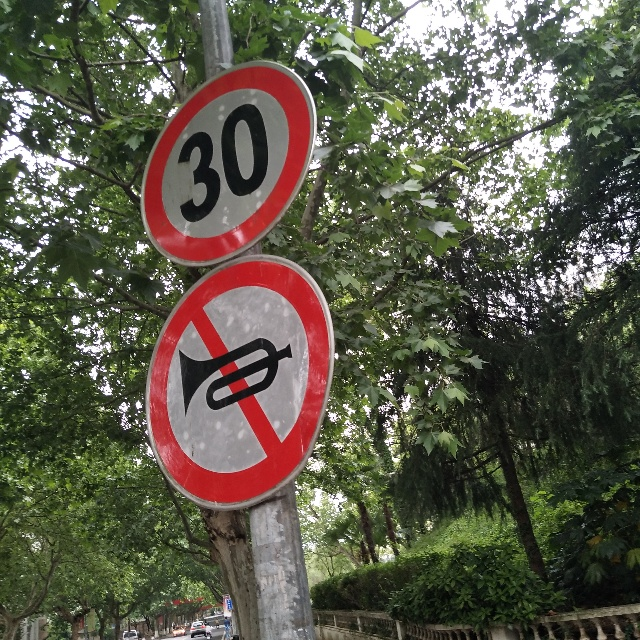nohonk: (156, 289, 305, 463)
